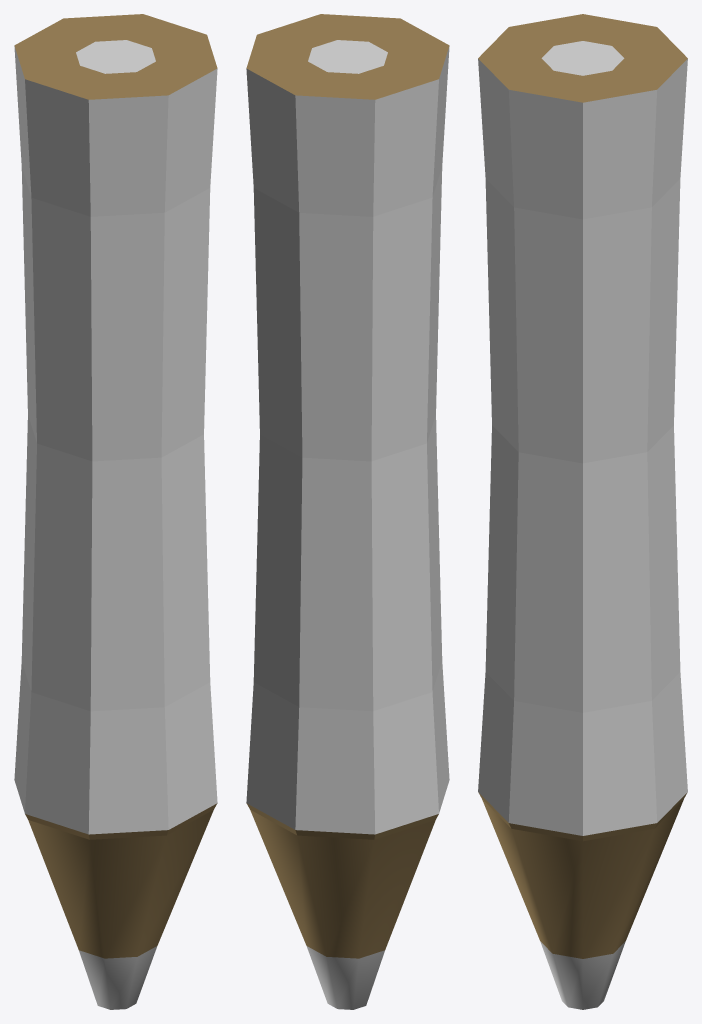
Rendered from SM_Pen_1.fbx.
The picture shows the model from 3 angles, left to right: view 1: azimuth 30°, elevation 25°; view 2: azimuth 150°, elevation 25°; view 3: azimuth 270°, elevation 25°; orthographic projection.
Visible parts, largest first — view 1: Pen; view 2: Pen; view 3: Pen.
Boxes of the visible parts, x1,y1,x2,y2 form: Pen: (14,14,217,1009); Pen: (246,14,449,1009); Pen: (478,14,687,1009).
Bounding box in the file's own units: 30 × 149 × 30.
